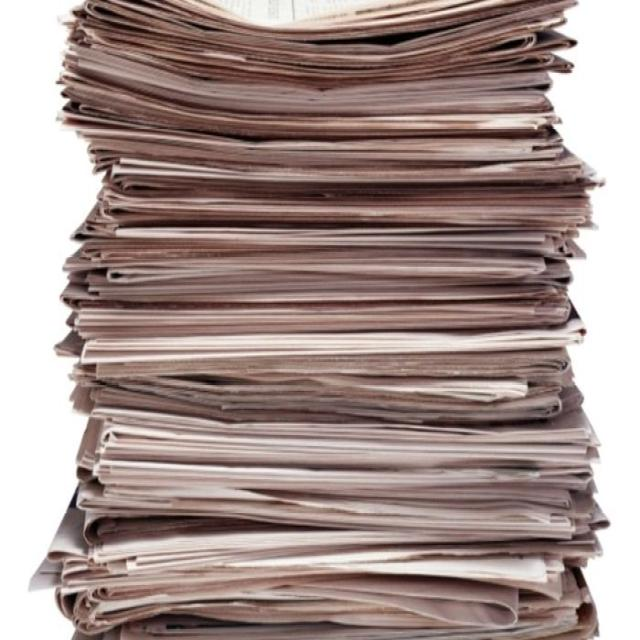Kertas: (59, 2, 613, 639)
